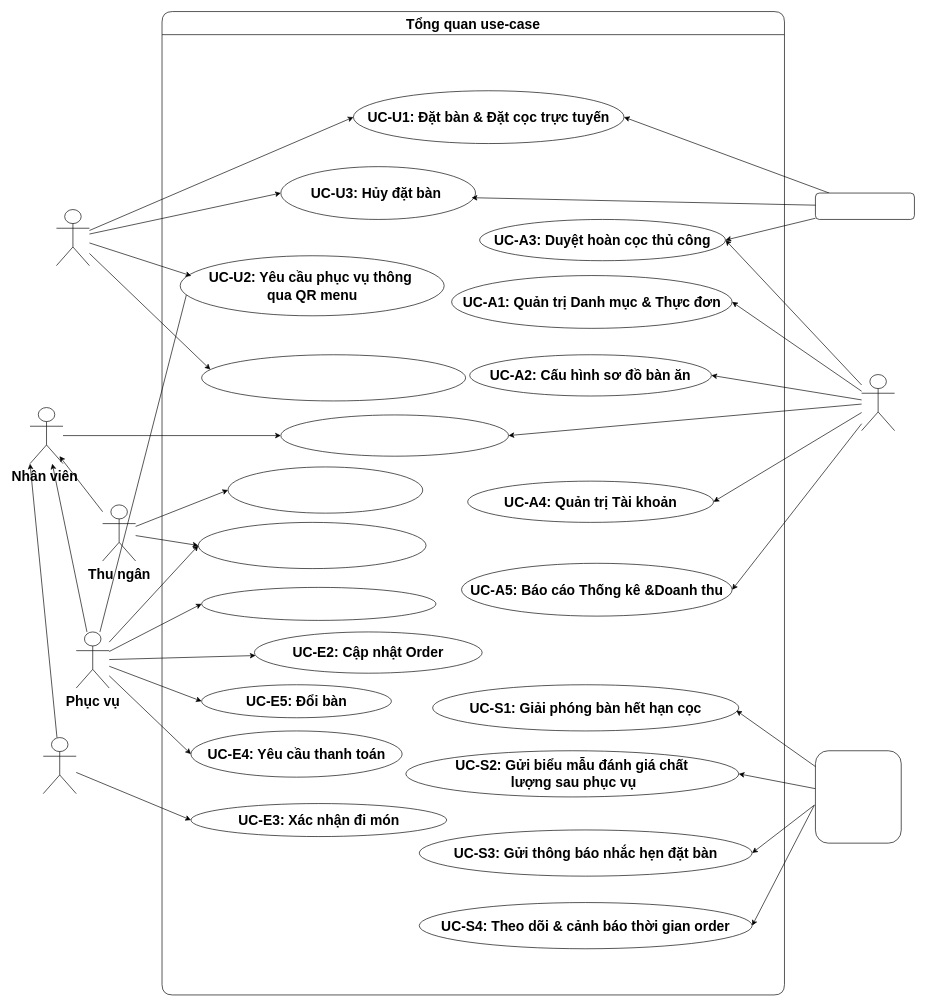
Image size: 926x1007. Some labels were removed from this diagram. Here are the shapes that lost their labels. From the top down, the centre of each, then its label:
the point at 864,205: VNPAY
the point at 72,237: Khách hàng (Guest)
the point at 333,377: UC-U4: Gửi đánh giá dịch vụ
the point at 878,402: Quản lý
the point at 394,435: UC-E8: Đăng nhập & Xác thực
the point at 325,489: UC-E7: Thanh toán hóa đơn
the point at 312,545: UC-E6: Check in nhận bàn
the point at 318,603: UC-E1: Tạo Order
the point at 59,765: Điều phối
the point at 858,796: Background Worker
